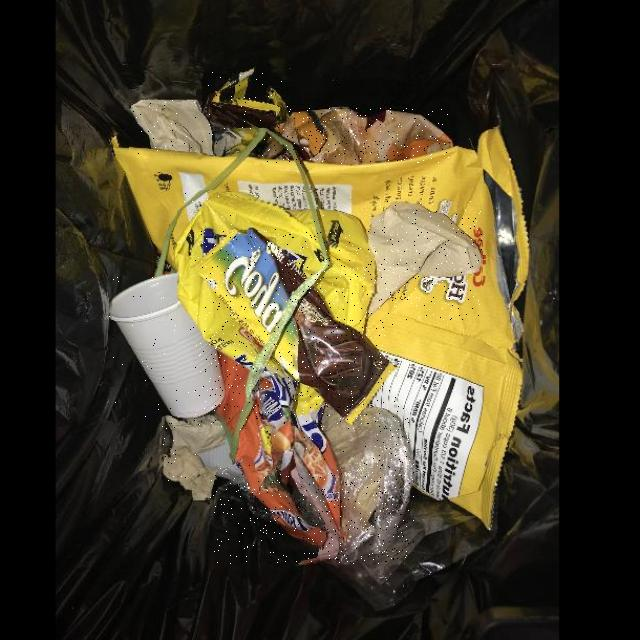paper: (367, 201, 482, 319), (162, 416, 228, 498), (130, 99, 217, 154)
plastic: (108, 273, 226, 421), (320, 405, 414, 564)
wrapper: (110, 128, 529, 530), (178, 190, 377, 470), (194, 231, 396, 426), (214, 350, 342, 564), (261, 108, 452, 163), (204, 72, 288, 130)
